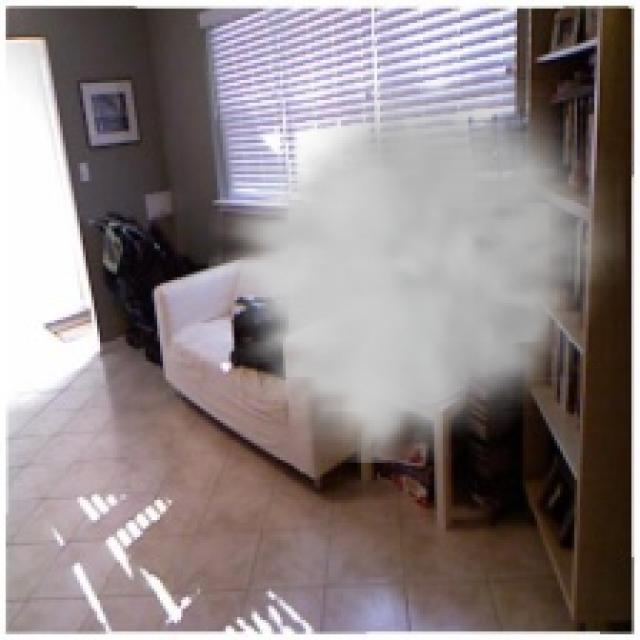Smoke: (208, 80, 626, 463)
